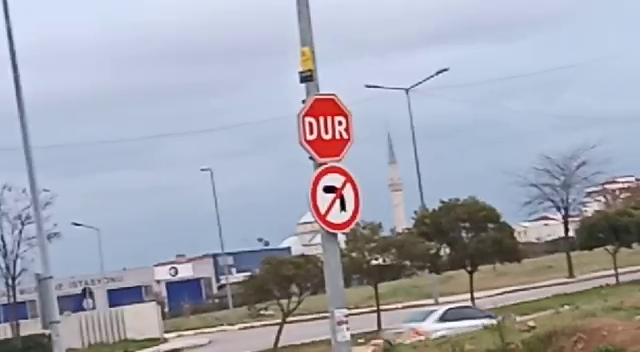no_left: (305, 163, 364, 236)
stop: (294, 92, 356, 165)
